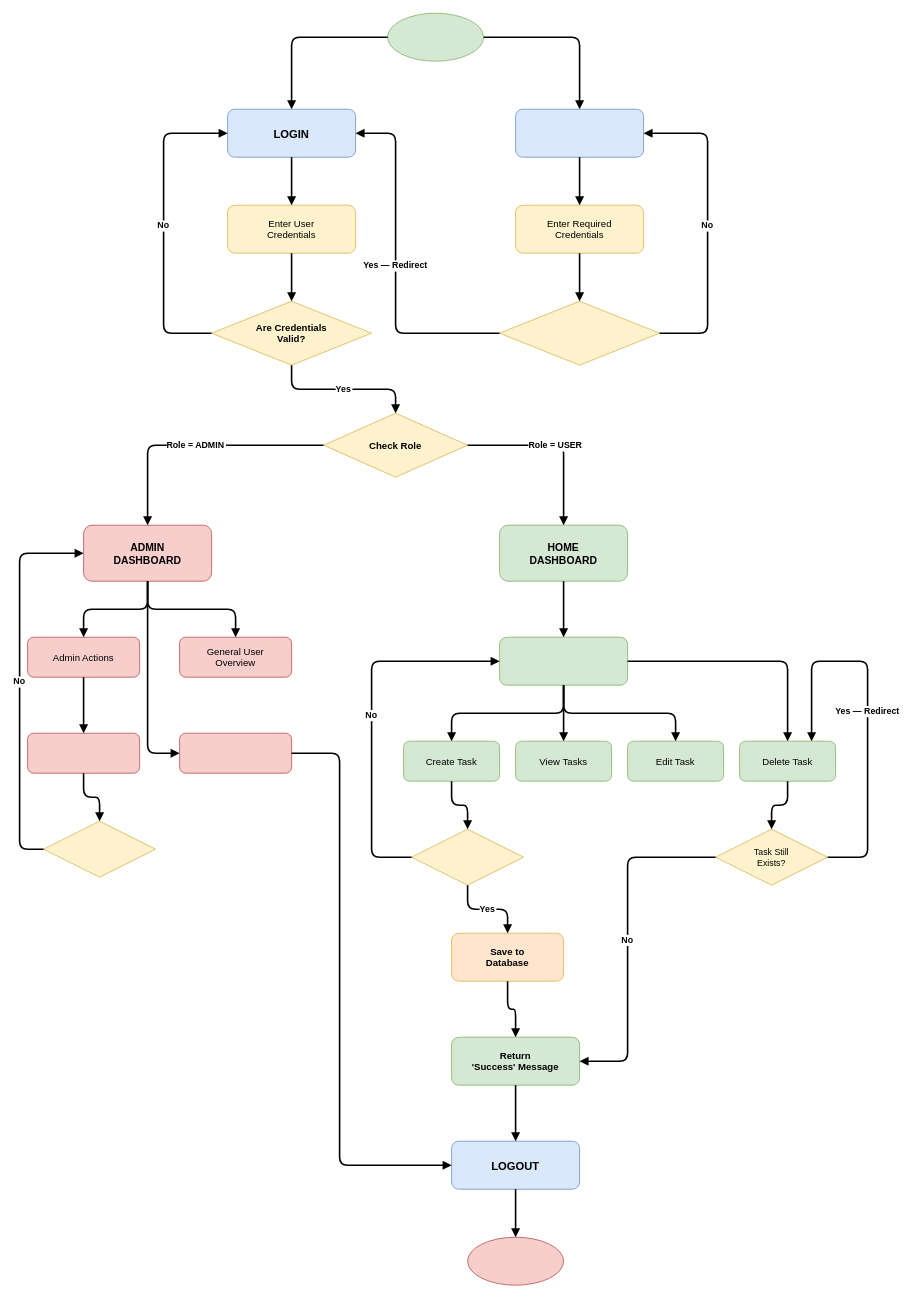
Image size: 914x1298. Some labels were removed from this diagram. The shapes that lost their labels are listed below. From the top down, each one's centre as x and y in pixels, then its label:
(x=435, y=36): START
(x=579, y=132): REGISTER
(x=579, y=332): Do Credentials Meet Criteria?
(x=563, y=660): TASK ACTIONS
(x=83, y=752): Delete User
(x=235, y=752): View Users Activity
(x=99, y=848): Did Admin click "Ok"
(x=467, y=856): Is Task Valid?
(x=515, y=1260): END
